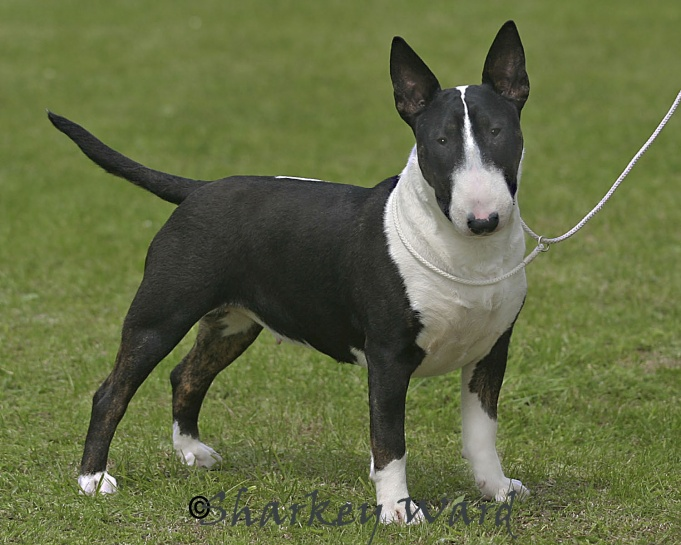bull_terrier: (45, 17, 530, 527)
